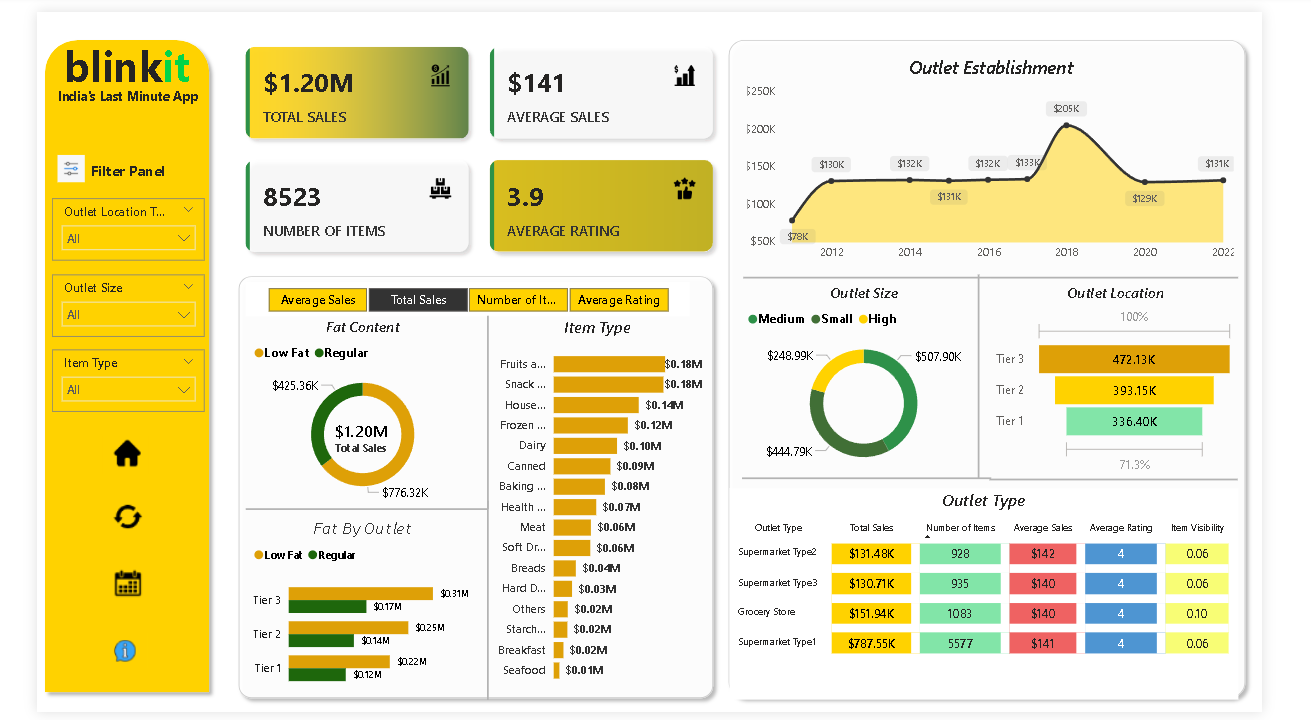

Layout of this report page (visuals, bound fields, positions):
{"tool":"powerbi","page":{"name":"Page 1","canvas":[1400,800],"ordinal":0},"visuals":[{"type":"shape","box":[0,23.2,205.9,763.5],"z":0},{"type":"textbox","box":[16.4,23.2,174.5,81.8],"z":1000},{"type":"textbox","box":[10.9,81.8,184.1,76.3],"z":2000},{"type":"cardVisual","fields":{"Data":["Table1.Total Sales","Table1.Average Sales","Table1.Number of Items","Table1.Average Rating"]},"box":[220.9,23.2,569.9,269.9],"z":3000},{"type":"shape","box":[220.9,293.1,560.3,500.3],"z":4000},{"type":"donutChart","title":"Fat Content","fields":{"Y":["Table1.Number of Items"],"Category":["Table1.Item Fat Content"]},"box":[242.7,347.7,259,219.5],"z":5000},{"type":"slicer","fields":{"Values":["Metrics.Metrics"]},"box":[238.6,308.1,507.2,39.5],"z":6000},{"type":"cardVisual","fields":{"Data":["Table1.Number of Items"]},"box":[317.7,448.5,107.7,70.9],"z":7000},{"type":"clusteredBarChart","title":"Fat By Outlet","fields":{"Y":["Table1.Number of Items"],"Category":["Table1.Outlet Location Type"],"Series":["Table1.Item Fat Content"]},"box":[242.7,578.1,259,208.6],"z":8000},{"type":"shape","box":[238.6,559,276.8,19.1],"z":9000},{"type":"shape","box":[508.6,347.1,12.9,221.4],"z":10000},{"type":"shape","box":[460.8,559,107.7,227.7],"z":11000},{"type":"barChart","title":"Item Type","fields":{"Y":["Table1.Number of Items"],"Category":["Table1.Item Type"]},"box":[515.3,347.7,249.5,429.5],"z":12000},{"type":"shape","box":[781.4,22.9,608.6,770],"z":13000},{"type":"lineChart","title":"Outlet Establishment ","fields":{"Category":["Table1.Outlet Establishment Year"],"Y":["Table1.Total Sales"]},"box":[807.1,49.1,565.8,244],"z":14000},{"type":"shape","box":[807.1,298.6,565.7,10],"z":15000},{"type":"donutChart","title":"Outlet Size","fields":{"Y":["Table1.Total Sales"],"Category":["Table1.Outlet Size"]},"box":[807.3,308.2,275.5,225.5],"z":16000},{"type":"shape","box":[1070,300,12.2,233.3],"z":17000},{"type":"shape","box":[805,523.3,285,20],"z":18000},{"type":"funnel","title":" Outlet Location ","fields":{"Category":["Table1.Outlet Location Type"],"Y":["Sum(Table1.Sales)"]},"box":[1090.9,308.2,281.8,225.5],"z":19000},{"type":"shape","box":[1089.1,523.6,283.6,20],"z":20000},{"type":"pivotTable","title":"Outlet Type","fields":{"Rows":["Table1.Outlet Type"],"Values":["Table1.Total Sales","Table1.Number of Items","Table1.Average Sales","Table1.Average Rating","Avg(Table1.Item Visibility)"]},"box":[791.4,544.3,581.4,241.4],"z":21000},{"type":"slicer","fields":{"Values":["Table1.Outlet Location Type"]},"box":[16.7,212.2,174.4,71.1],"z":22000},{"type":"slicer","fields":{"Values":["Table1.Outlet Size"]},"box":[16.7,300,174.4,71.1],"z":23000},{"type":"slicer","fields":{"Values":["Table1.Item Type"]},"box":[16.7,385.6,174.4,71.1],"z":24000},{"type":"textbox","box":[31.1,164.4,145.6,35.6],"z":25000},{"type":"image","box":[11.1,158.9,55.6,41.1],"z":26000},{"type":"image","box":[66.7,480,67.8,53.3],"z":27000},{"type":"image","box":[72.2,544.4,58.9,57.8],"z":28000},{"type":"image","box":[71.1,617.8,63.3,64.4],"z":29000},{"type":"image","box":[66.7,696.7,64.4,64.4],"z":30000}]}

Visuals, with their boxes on the page's 1400x800 design canvas (x1, y1, x2, y2). These are canvas units, not pixel positions in the 1311x720 screenshot, which may show the page scaled, cropped or inside an application window:
shape: rect(0, 23, 206, 787)
textbox: rect(16, 23, 191, 105)
textbox: rect(11, 82, 195, 158)
cardVisual - Table1.Total Sales x Table1.Average Sales: rect(221, 23, 791, 293)
shape: rect(221, 293, 781, 793)
"Fat Content" donutChart: rect(243, 348, 502, 567)
slicer - Metrics.Metrics: rect(239, 308, 746, 348)
cardVisual - Table1.Number of Items: rect(318, 448, 425, 519)
"Fat By Outlet" clusteredBarChart: rect(243, 578, 502, 787)
shape: rect(239, 559, 515, 578)
shape: rect(509, 347, 522, 568)
shape: rect(461, 559, 568, 787)
"Item Type" barChart: rect(515, 348, 765, 777)
shape: rect(781, 23, 1390, 793)
"Outlet Establishment " lineChart: rect(807, 49, 1373, 293)
shape: rect(807, 299, 1373, 309)
"Outlet Size" donutChart: rect(807, 308, 1083, 534)
shape: rect(1070, 300, 1082, 533)
shape: rect(805, 523, 1090, 543)
" Outlet Location " funnel: rect(1091, 308, 1373, 534)
shape: rect(1089, 524, 1373, 544)
"Outlet Type" pivotTable: rect(791, 544, 1373, 786)
slicer - Table1.Outlet Location Type: rect(17, 212, 191, 283)
slicer - Table1.Outlet Size: rect(17, 300, 191, 371)
slicer - Table1.Item Type: rect(17, 386, 191, 457)
textbox: rect(31, 164, 177, 200)
image: rect(11, 159, 67, 200)
image: rect(67, 480, 134, 533)
image: rect(72, 544, 131, 602)
image: rect(71, 618, 134, 682)
image: rect(67, 697, 131, 761)
